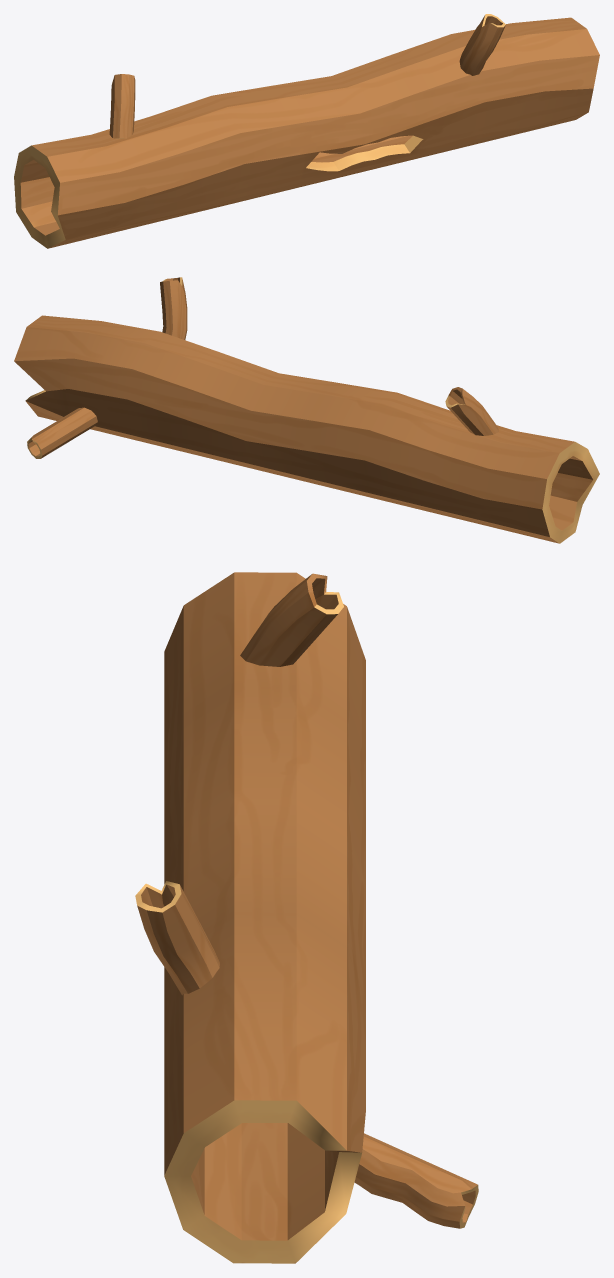
Rendered from log0.fbx.
The picture shows the model from 3 angles, top to bottom: view 1: azimuth 30°, elevation 25°; view 2: azimuth 150°, elevation 25°; view 3: azimuth 270°, elevation 25°; orthographic projection. The views are drawn at different scales.
Parts seen in each view (by area): view 1: stage01:polySurface7; view 2: stage01:polySurface7; view 3: stage01:polySurface7.
Part boxes in pixels (<box>): stage01:polySurface7: <box>14,14,599,248</box>; stage01:polySurface7: <box>14,277,599,543</box>; stage01:polySurface7: <box>135,572,478,1263</box>.
Size of the model in its own units: 13.09 by 3.27 by 3.6.
1 material, 1 textured.
